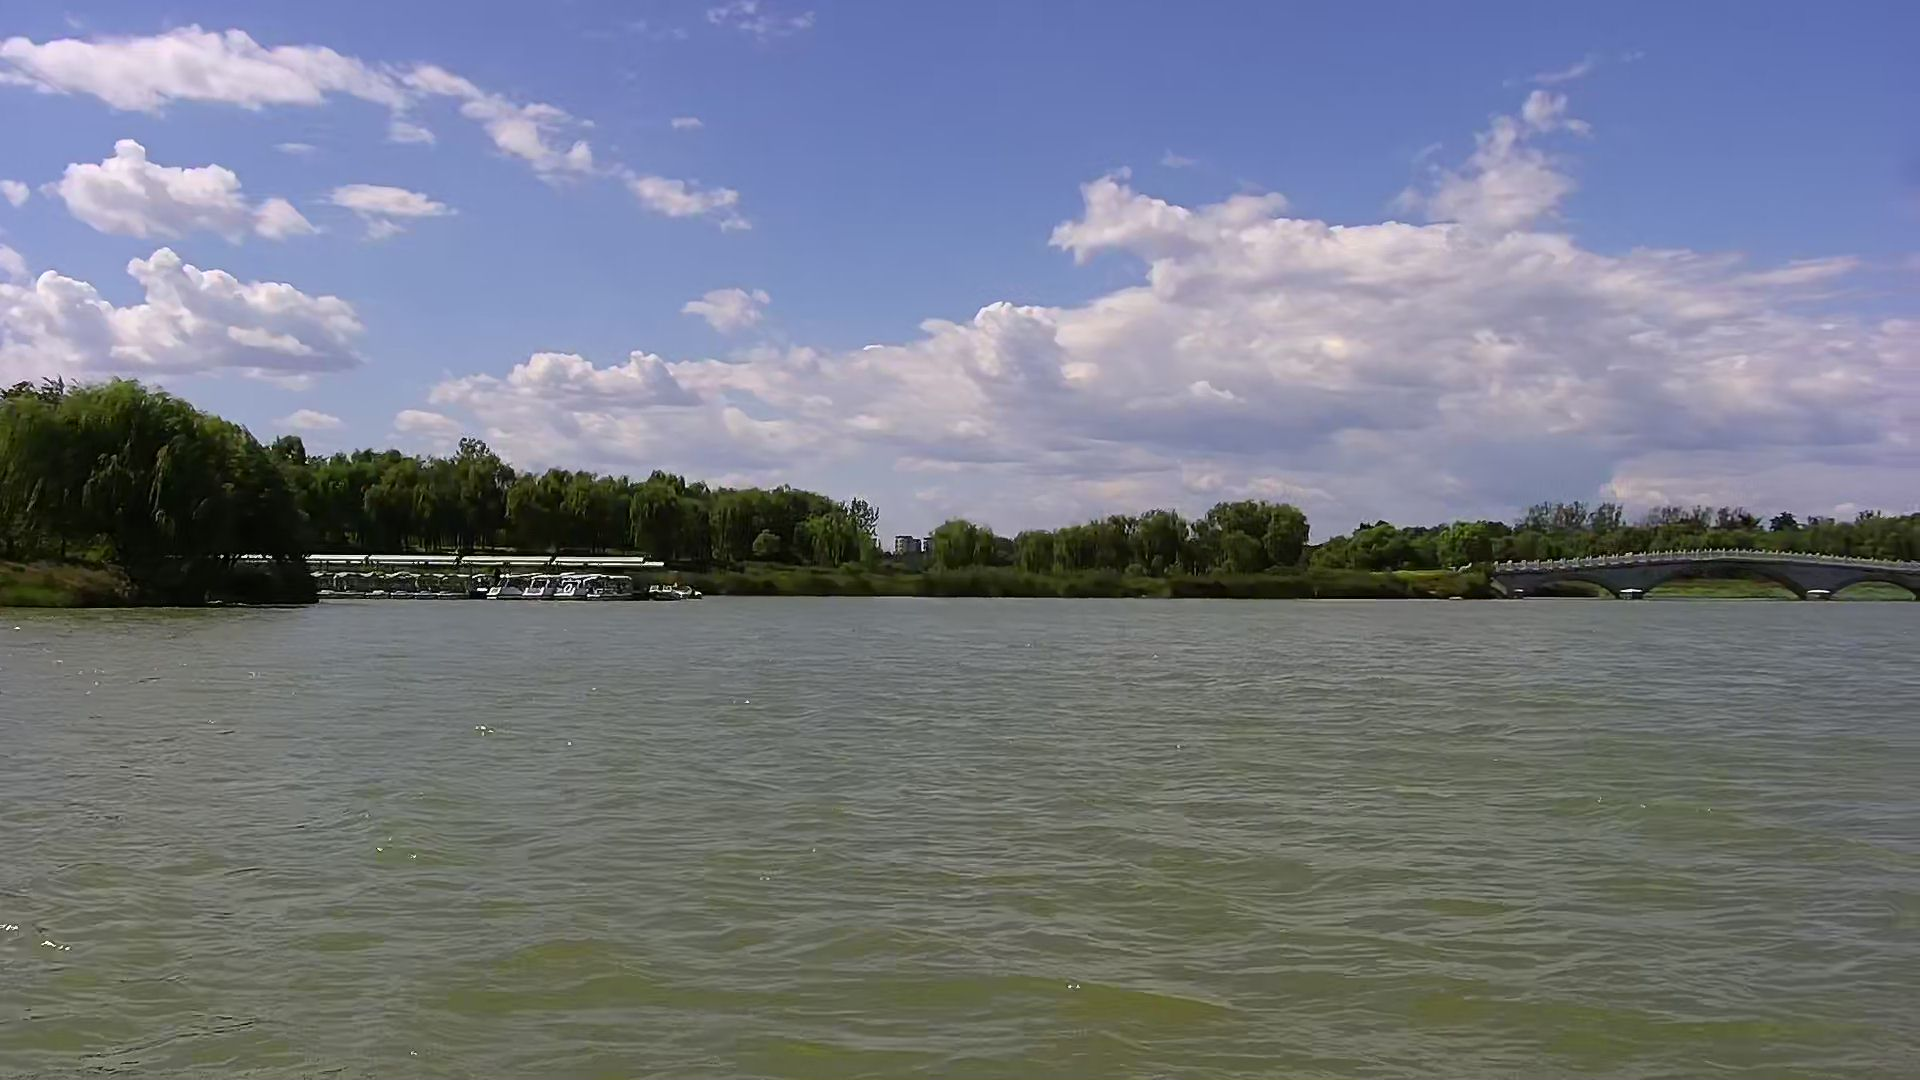bridge: (1491, 553, 1920, 597)
harbor: (309, 549, 699, 603)
